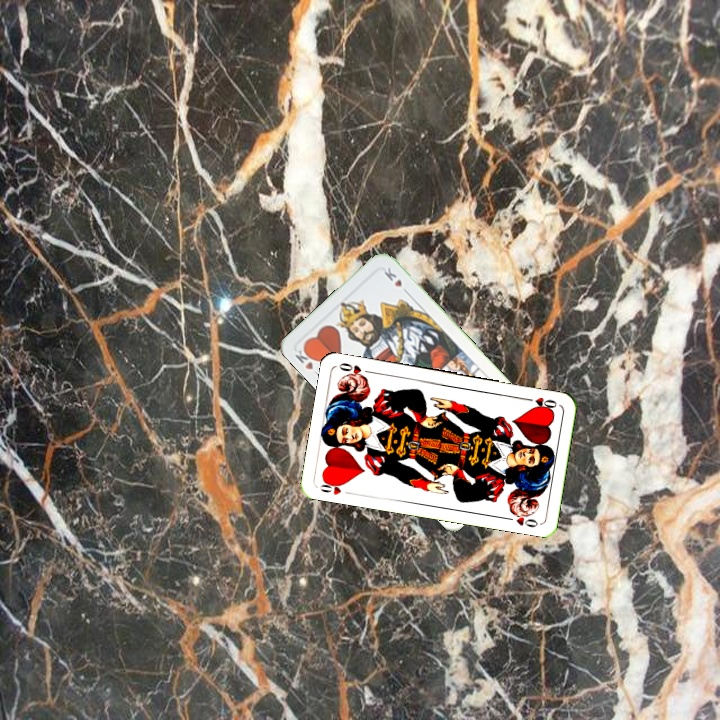HK: (291, 343, 323, 380)
HO: (316, 476, 355, 497), (520, 393, 560, 411)
